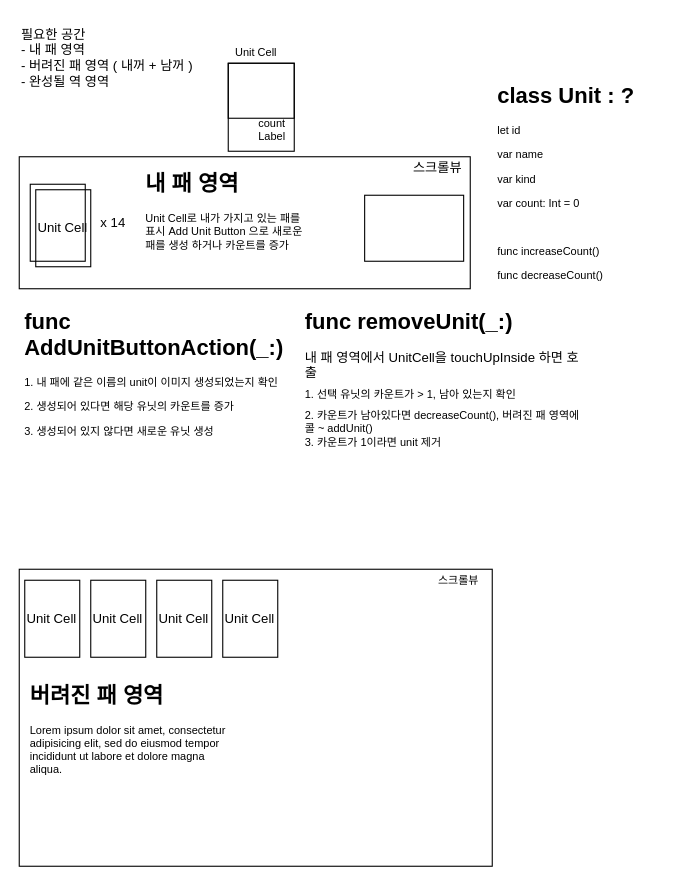
Some shapes in this 699 by 886 pixel diagram are drawn without their labels. Here are the shapes that lost their labels. From the top down, the centre of each, then its label:
point 260,90: 이미지 뷰
point 414,227: Add Unit Button
